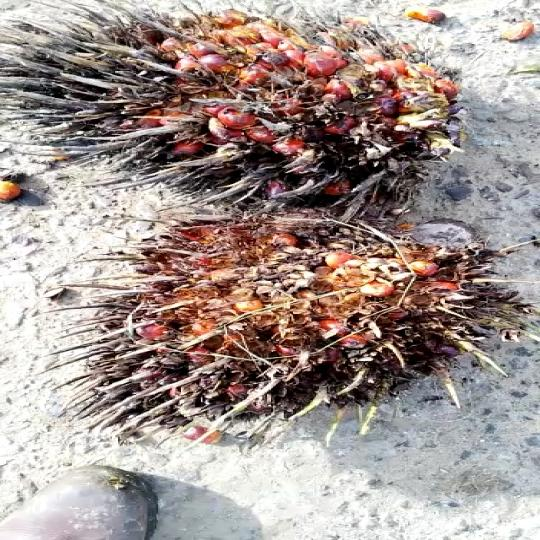terlalu masak: (61, 204, 504, 436), (0, 13, 469, 205)
